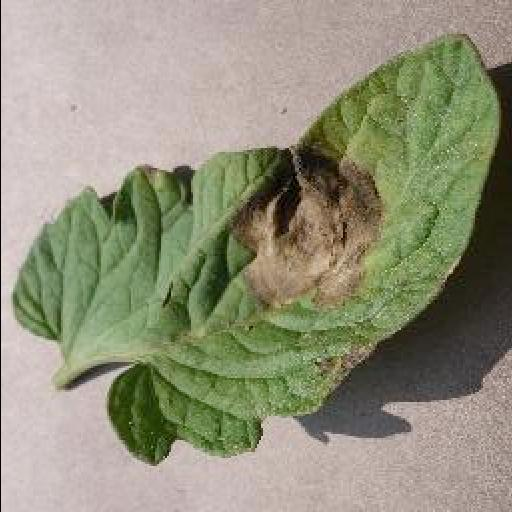disease_tomato: (10, 35, 500, 465)
